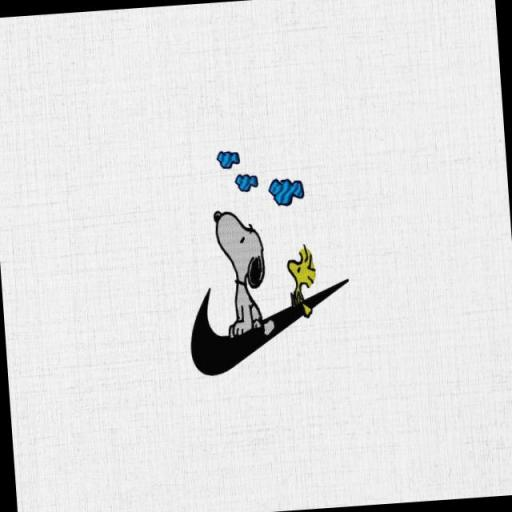Nike: (183, 278, 356, 379)
